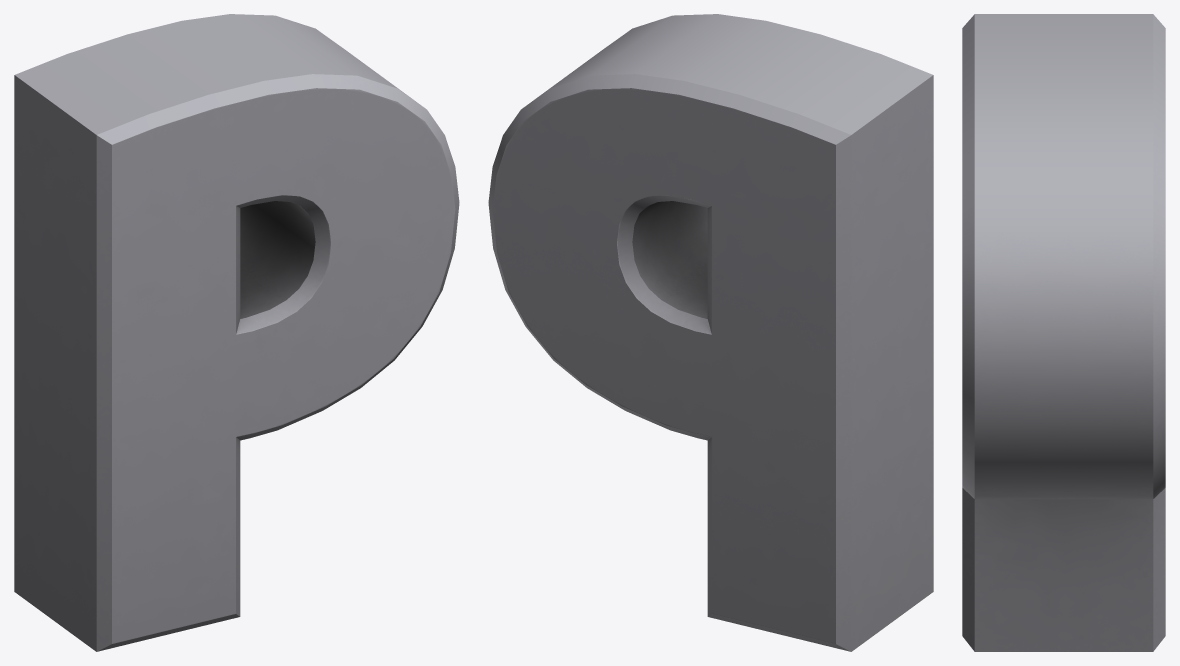
File: P_static.fbx
3 views of the same model, side by side, from view 1: azimuth 30°, elevation 25°; view 2: azimuth 150°, elevation 25°; view 3: azimuth 270°, elevation 25° (orthographic). The views are drawn at different scales.
Parts seen in each view (by area): view 1: P_static; view 2: P_static; view 3: P_static.
Part boxes in pixels (left/top/right/bottom): P_static: left=14, top=14, right=459, bottom=651; P_static: left=488, top=14, right=933, bottom=651; P_static: left=962, top=14, right=1165, bottom=651.
Bounding box in the file's own units: 74.03 × 103 × 33.
